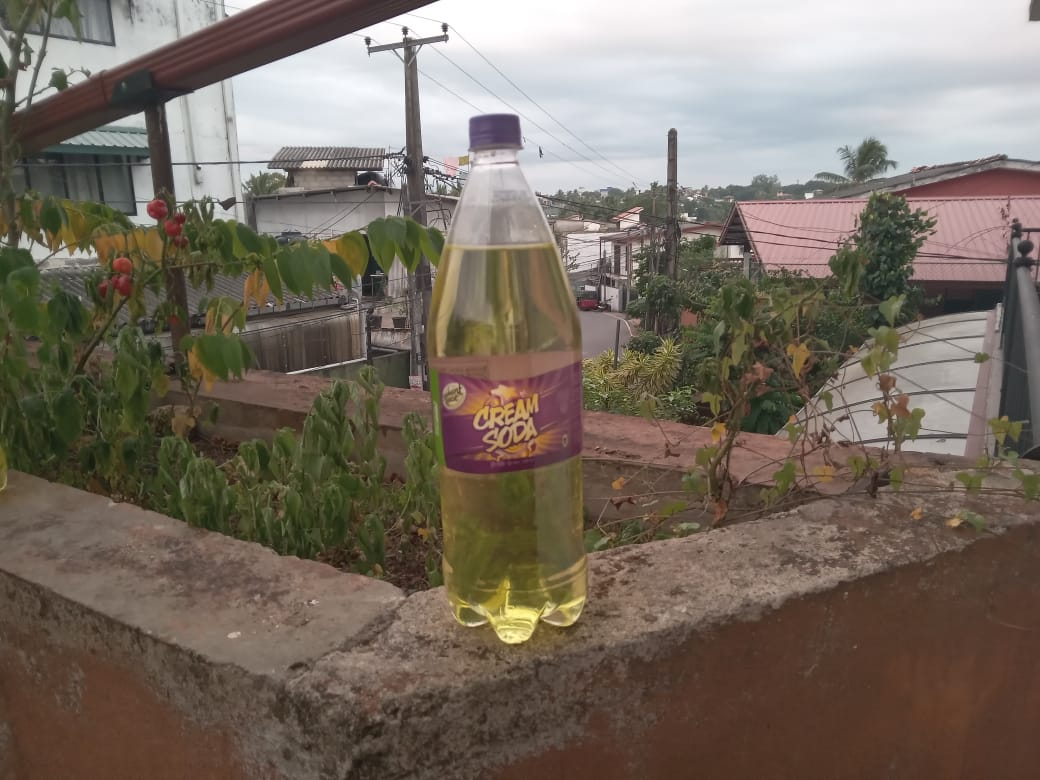L: (426, 114, 589, 645)
